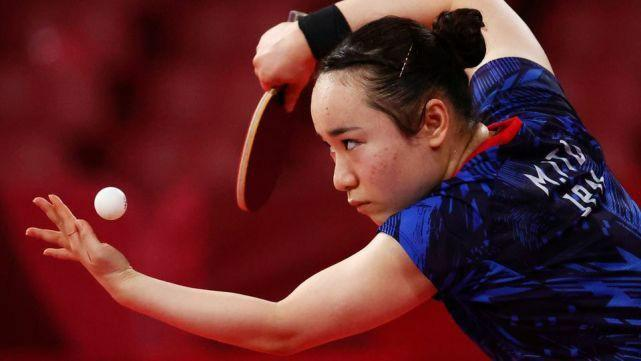ball: (88, 182, 131, 223)
